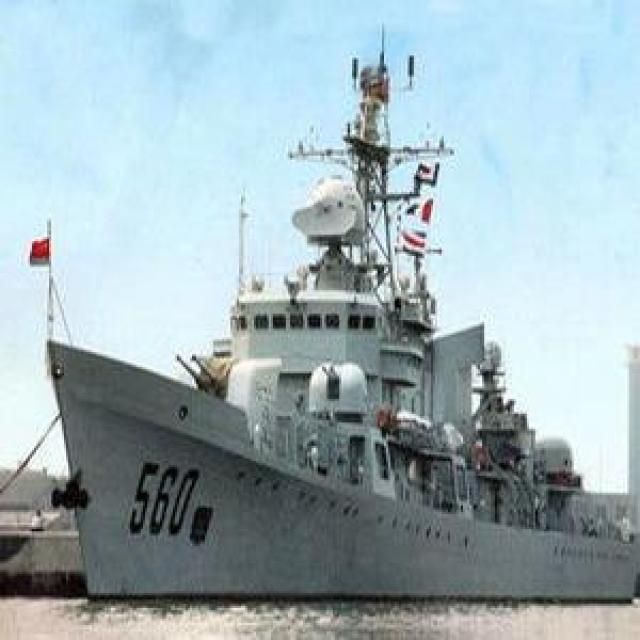navalvessels: (41, 57, 640, 604)
